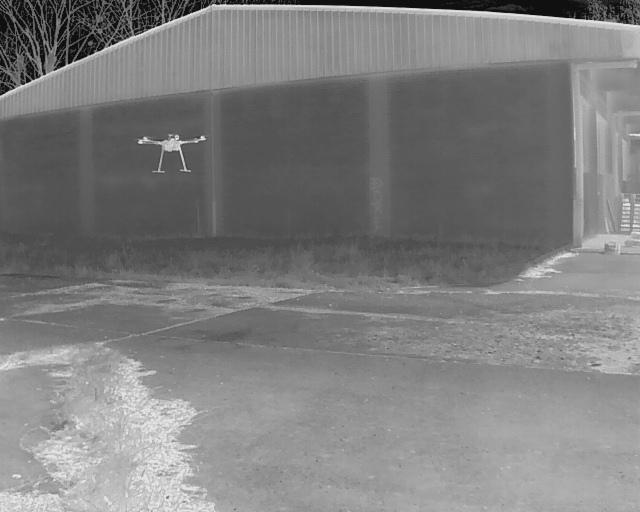drone: (130, 124, 216, 178)
